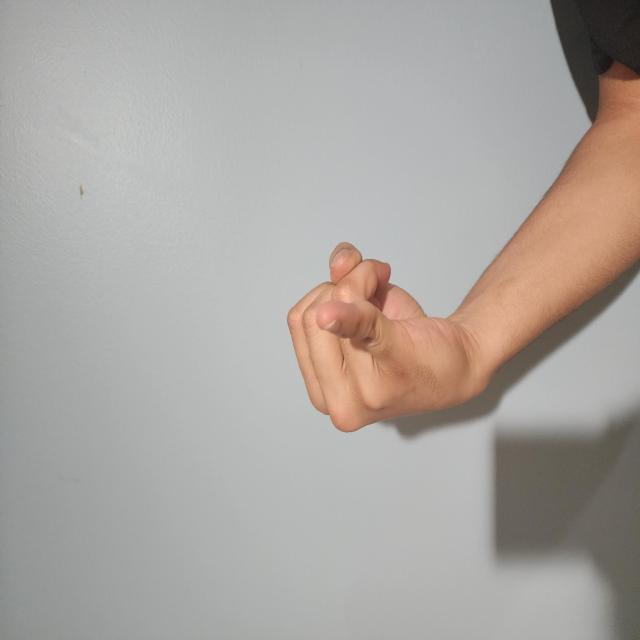J: (151, 379, 325, 640)
